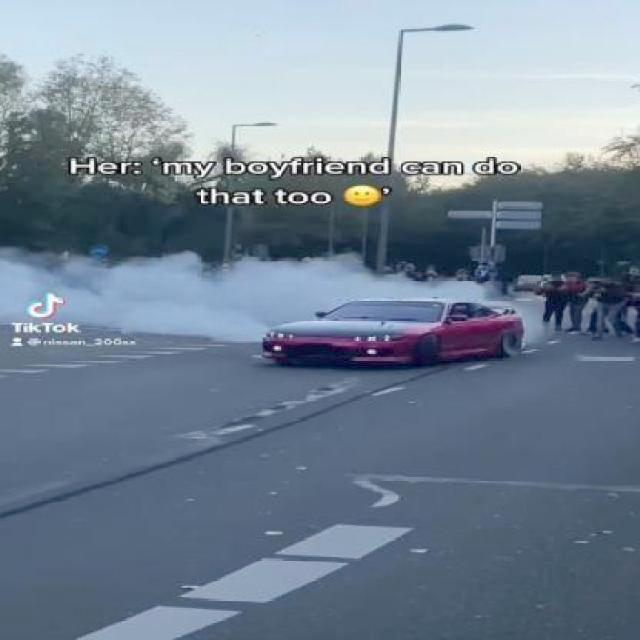car: (262, 294, 524, 368)
